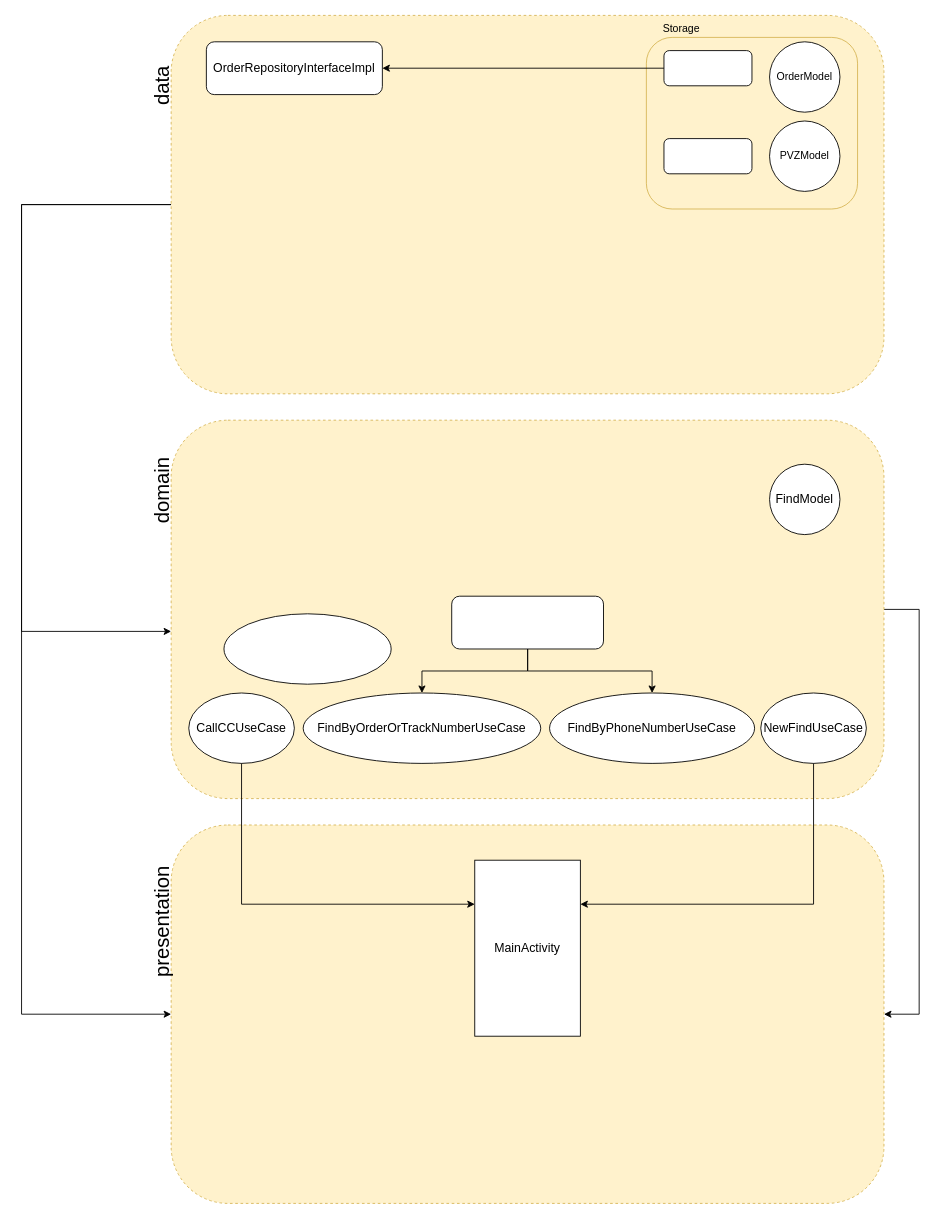
This 942x1219 diagram has some shape labels left out. The box of each missing label's shape, as (x1, y1, x2, y2) in pixels:
APIStorageImpl: (663, 138, 752, 174)
ClickPVZAddressUseCase: (223, 613, 391, 684)
OrderRepositoryInterface: (451, 595, 604, 649)
StorageInterface: (663, 50, 752, 86)
